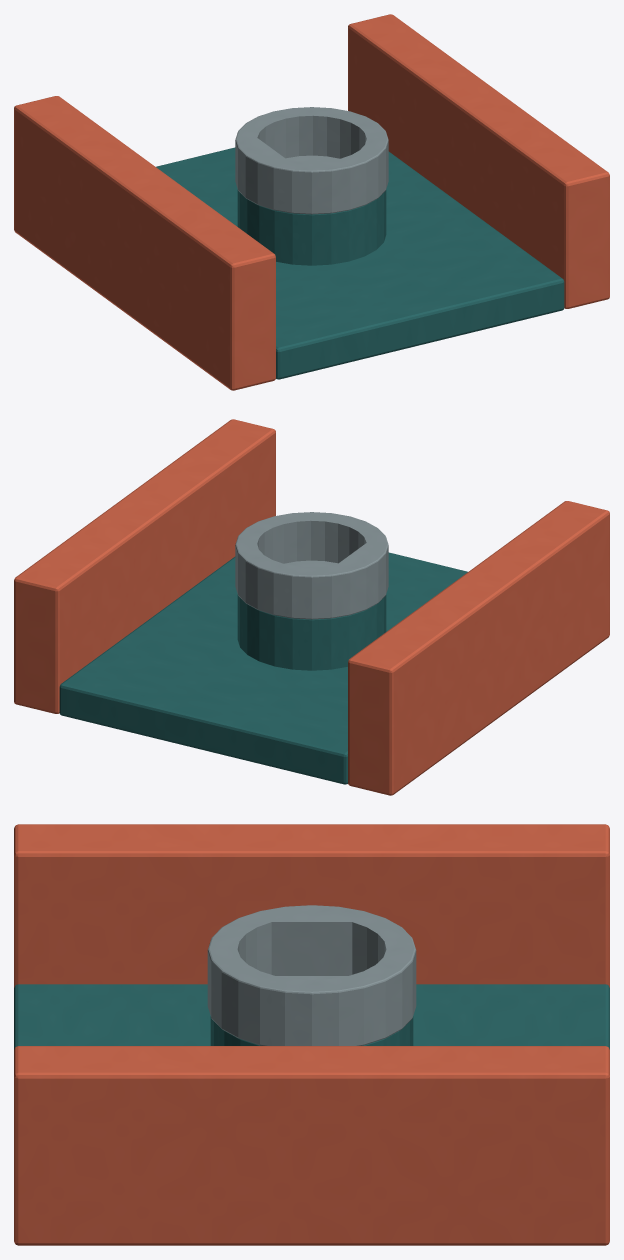
File: cradle-lod-0.glb
3 renders of one model, top to bottom at view 1: azimuth 30°, elevation 25°; view 2: azimuth 150°, elevation 25°; view 3: azimuth 270°, elevation 25°, orthographic. The views are drawn at different scales.
Visible parts, largest first — view 1: cradle_lod_0; view 2: cradle_lod_0; view 3: cradle_lod_0.
Part boxes in pixels (x1,y1,x2,y2): cradle_lod_0: [14, 14, 609, 390]; cradle_lod_0: [14, 419, 609, 795]; cradle_lod_0: [14, 824, 609, 1245].
Bounding box in the file's own units: 2 × 0.64 × 2.
1 material, 1 textured.
